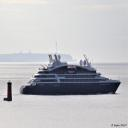cruises: (19, 52, 123, 99)
